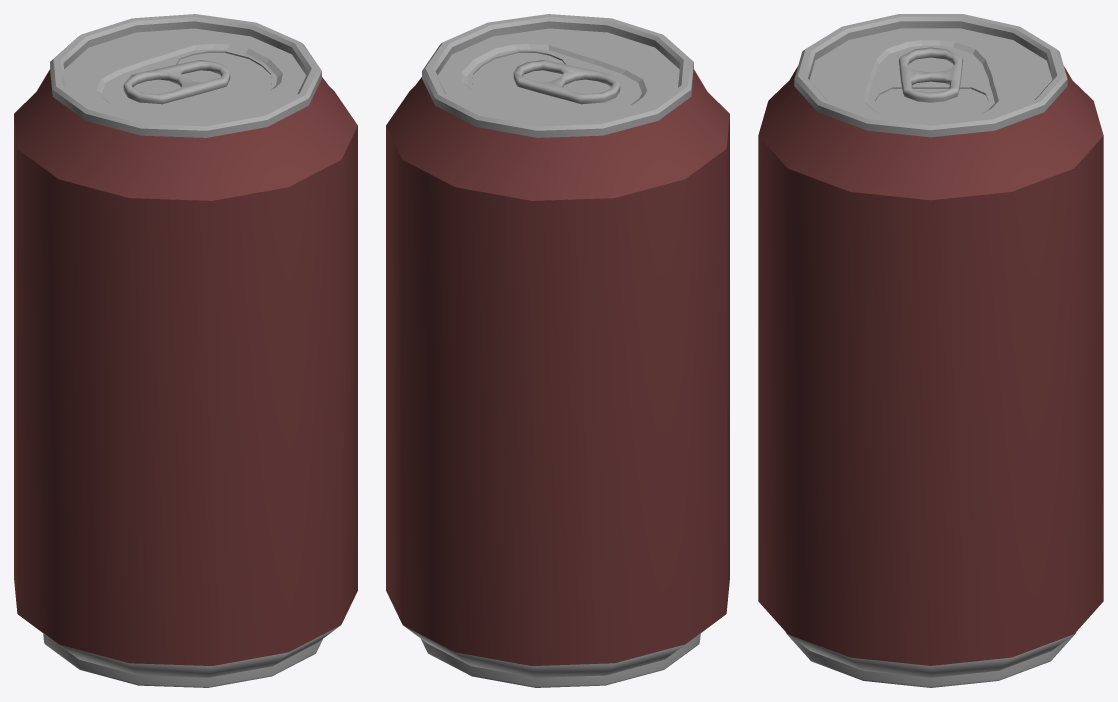
Rendered from soda_can_fbx.fbx.
3 views of the same model, side by side, from view 1: azimuth 30°, elevation 25°; view 2: azimuth 150°, elevation 25°; view 3: azimuth 270°, elevation 25° (orthographic).
Parts seen in each view (by area): view 1: Can_mesh; view 2: Can_mesh; view 3: Can_mesh.
Boxes of the visible parts, left/top/right/bottom form: Can_mesh: left=14, top=14, right=357, bottom=687; Can_mesh: left=386, top=14, right=729, bottom=687; Can_mesh: left=758, top=14, right=1103, bottom=687.
Bounding box in the file's own units: 3.16 × 5.67 × 3.18.
